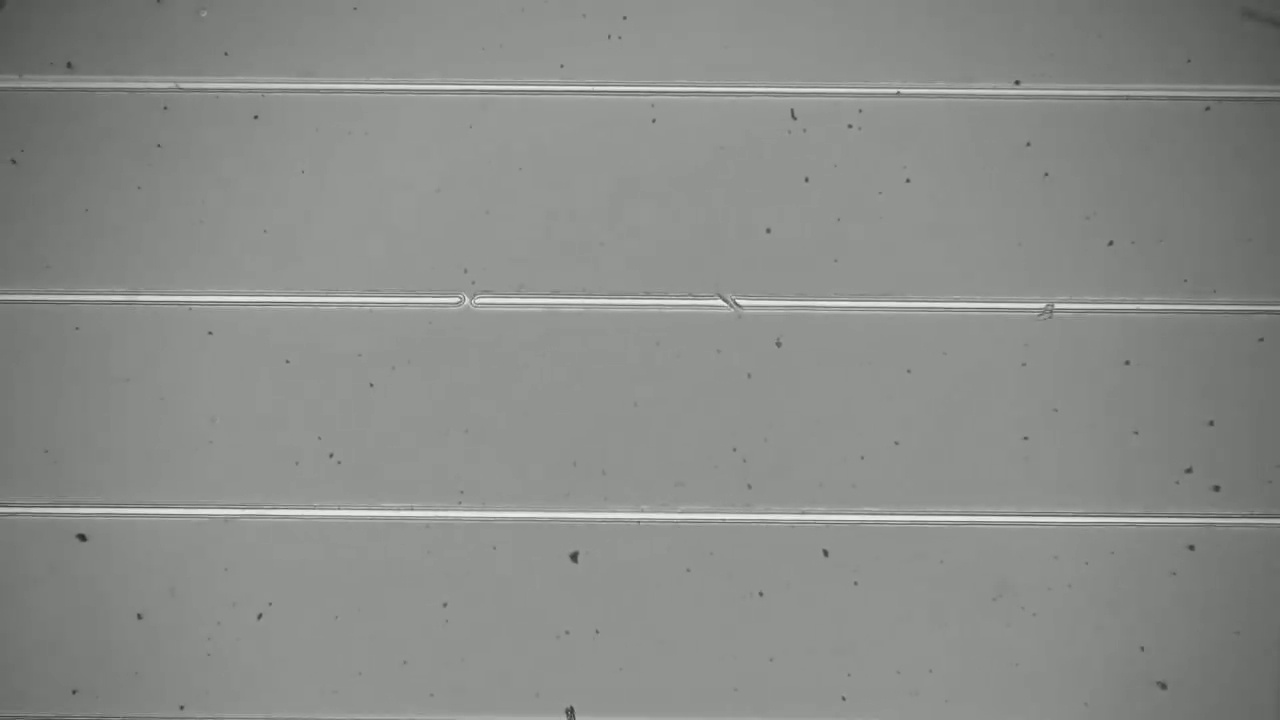open: (446, 280, 490, 320), (712, 287, 750, 320)
stains_enbedded: (1024, 287, 1067, 329)
